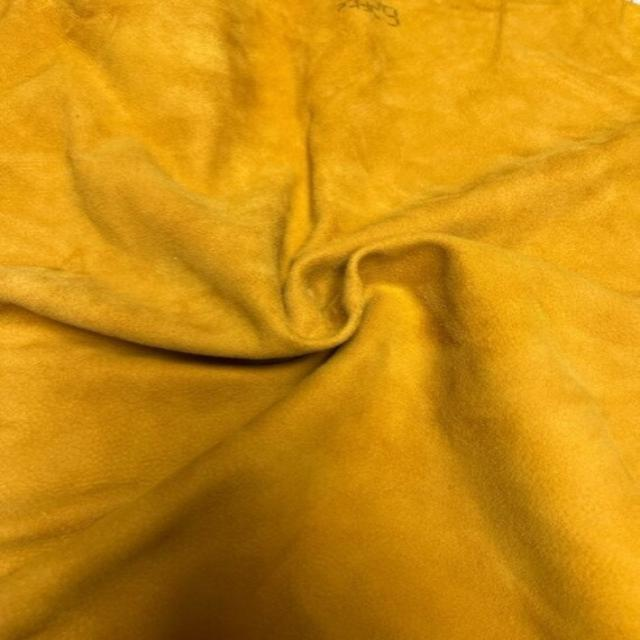Crease: (47, 74, 330, 265), (40, 432, 247, 574), (449, 135, 622, 243)
